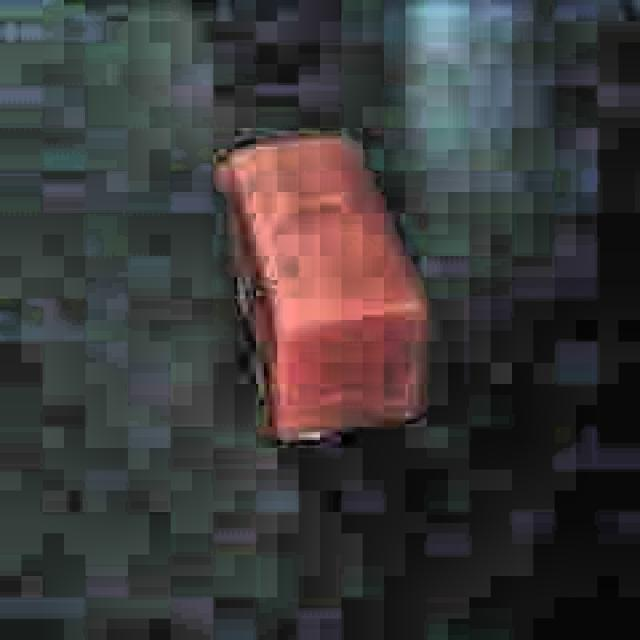bus: (211, 129, 431, 461)
